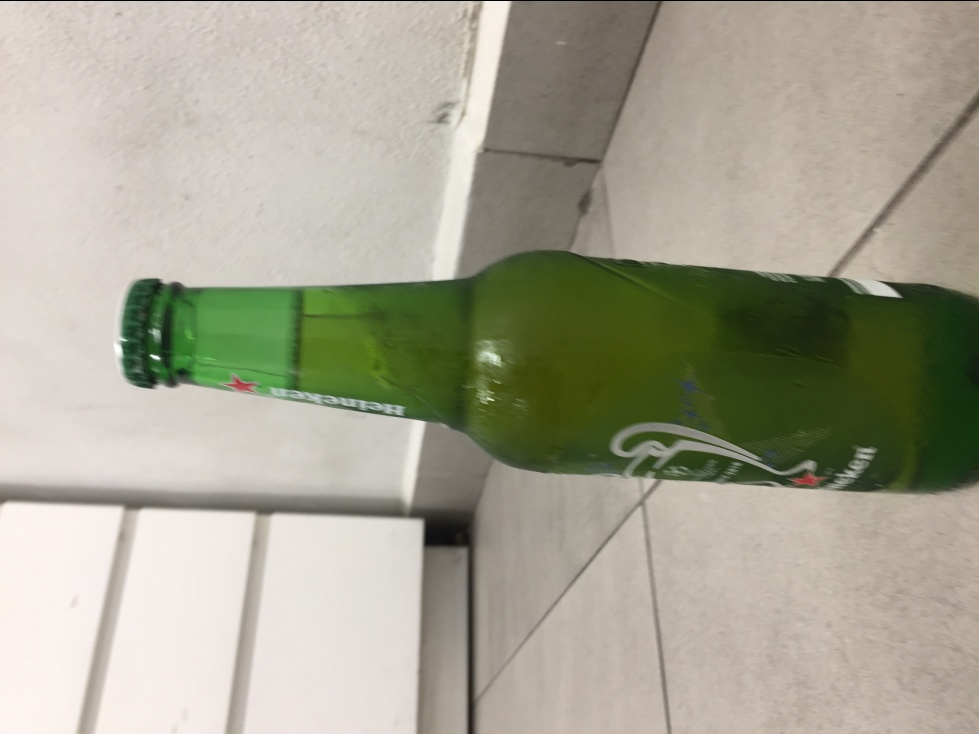heineken: (114, 247, 979, 495)
